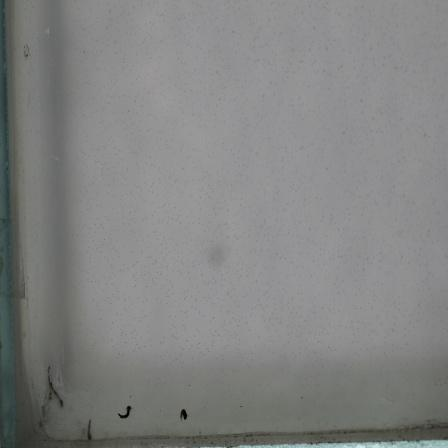Jentik-Nyamuk: (44, 368, 66, 412), (82, 415, 97, 442), (114, 402, 132, 422), (177, 404, 189, 425)
